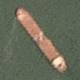ship: (0, 4, 32, 74)
